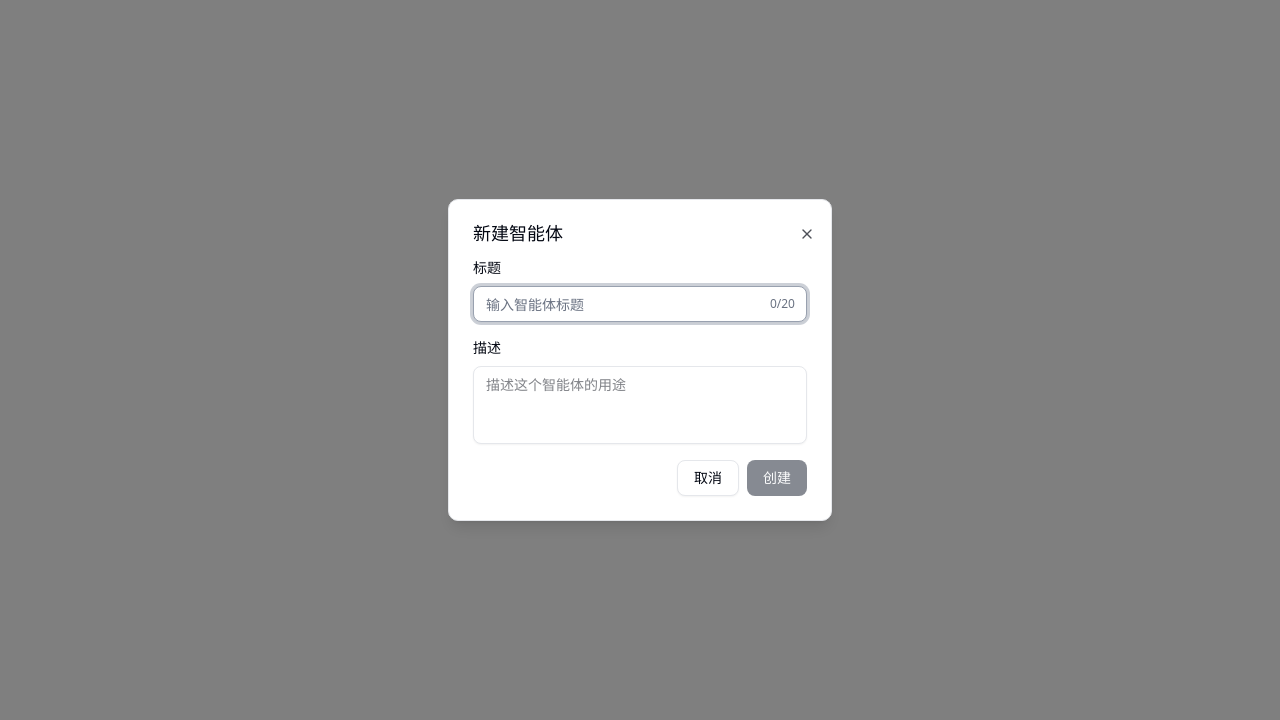
Test: NewAgentDialog i18n 与错误处理 › 后端返回无 error_code 的错误时透传原始消息
In the field labelled "标题": point(640, 304) 473,286 -> 807,322, type "测试"
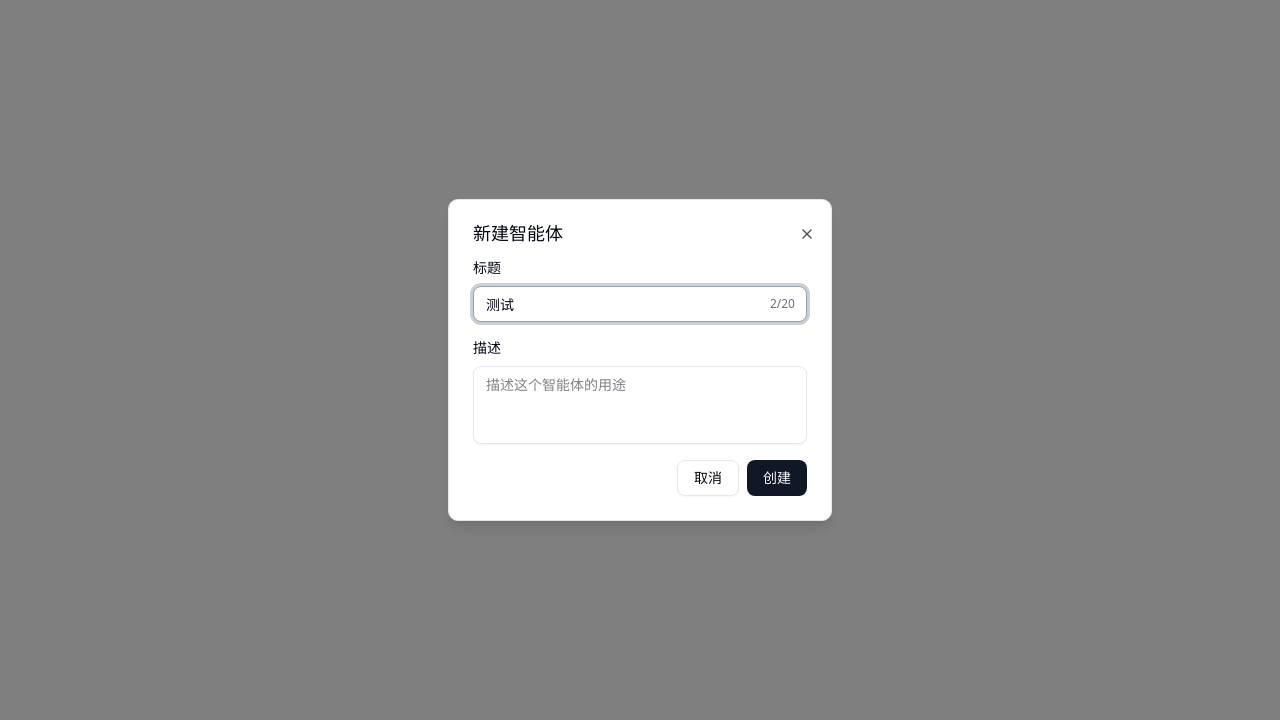
Click the button "创建": point(777, 478) 747,460 -> 807,496
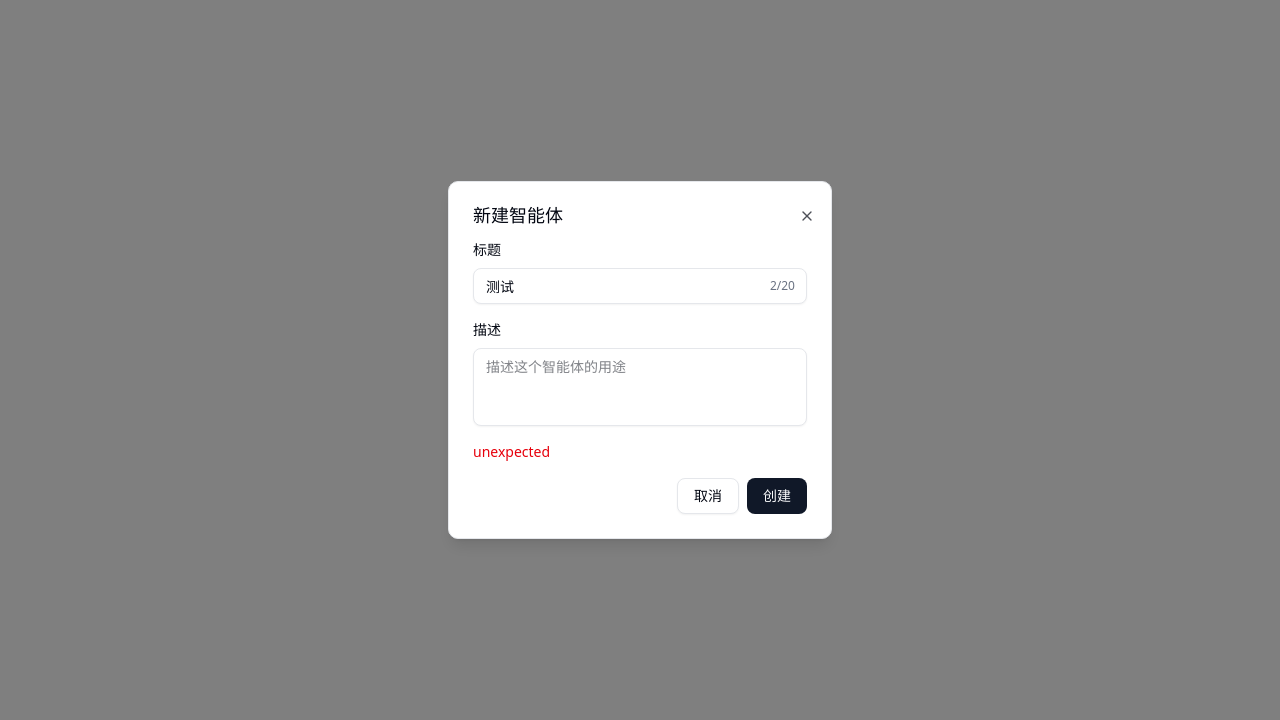
Result: the text "unexpected" is shown at 473,442 -> 550,461
